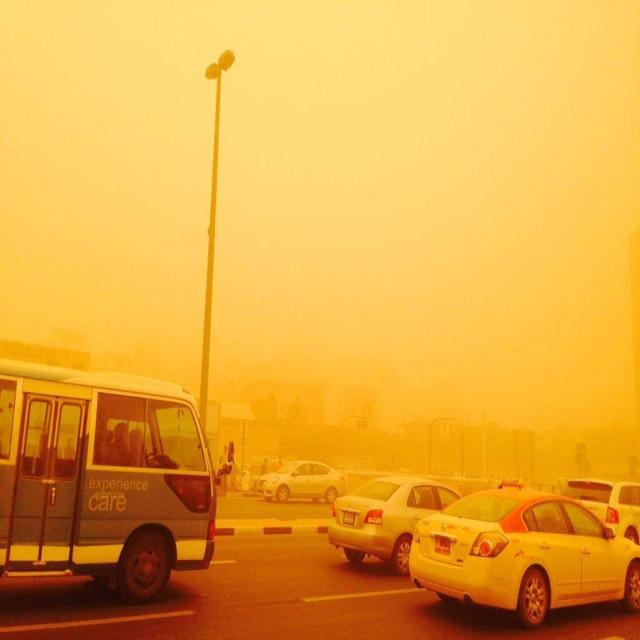Bus: (0, 376, 228, 600)
Car: (412, 490, 640, 623), (324, 478, 464, 566), (260, 460, 349, 504)
